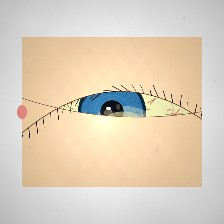corneal_ulcer: (91, 96, 155, 147)
